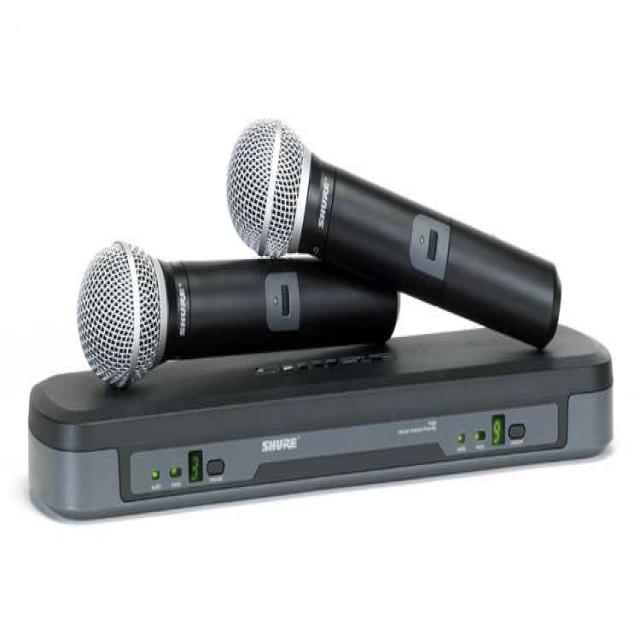microphone: (229, 117, 555, 352), (75, 242, 384, 384)
